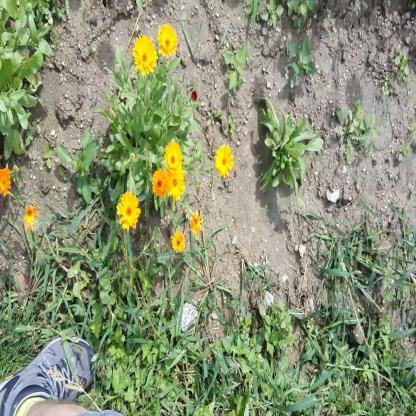marigold: (132, 33, 157, 76), (116, 189, 140, 229), (164, 166, 186, 202), (156, 23, 177, 55), (214, 144, 235, 175), (163, 139, 182, 169), (152, 168, 168, 198), (0, 166, 13, 198), (171, 230, 185, 257)
